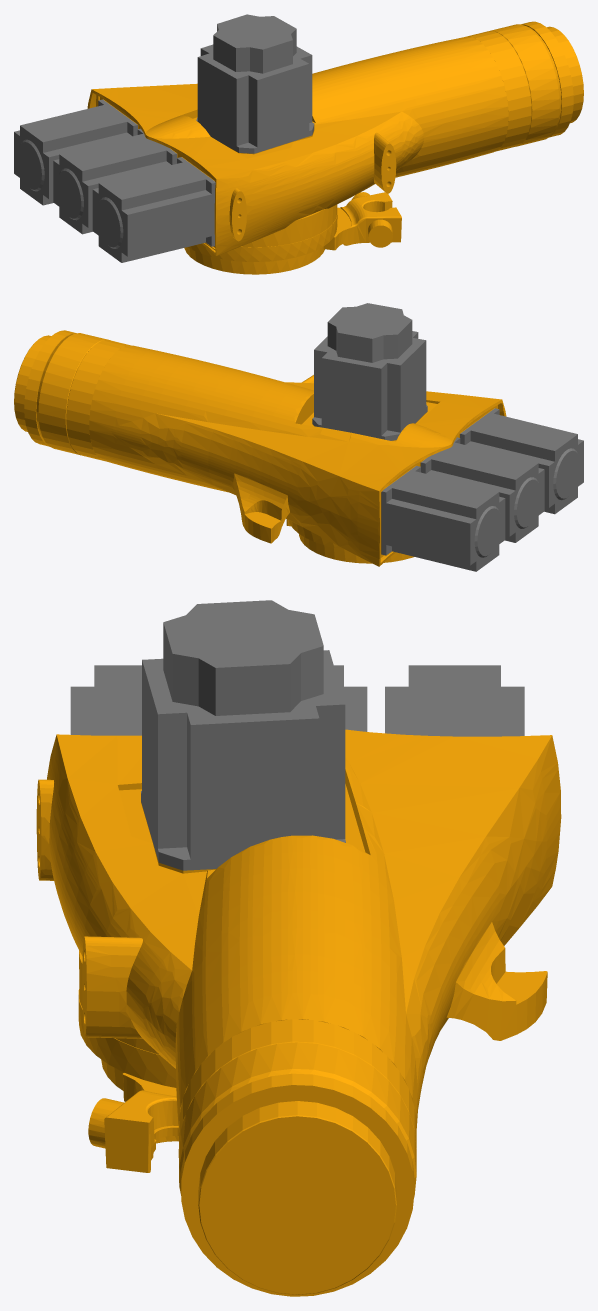
The picture shows the model from 3 angles, top to bottom: view 1: azimuth 30°, elevation 25°; view 2: azimuth 150°, elevation 25°; view 3: azimuth 270°, elevation 25°; orthographic projection. The views are drawn at different scales.
Parts seen in each view (by area): view 1: /node0/Mesh001-mesh/0, /node2/Mesh005-mesh/0, /node3/Mesh002-mesh/0, /node1/Mesh006-mesh/0, /node4/Mesh003-mesh/0, /node5/Mesh004-mesh/0; view 2: /node0/Mesh001-mesh/0, /node2/Mesh005-mesh/0, /node4/Mesh003-mesh/0, /node1/Mesh006-mesh/0, /node3/Mesh002-mesh/0, /node5/Mesh004-mesh/0; view 3: /node0/Mesh001-mesh/0, /node1/Mesh006-mesh/0, /node2/Mesh005-mesh/0, /node4/Mesh003-mesh/0, /node3/Mesh002-mesh/0, /node5/Mesh004-mesh/0.
Boxes of the visible parts, left/top/right/bottom form: /node0/Mesh001-mesh/0: left=87, top=36, right=508, bottom=274; /node2/Mesh005-mesh/0: left=196, top=14, right=314, bottom=153; /node3/Mesh002-mesh/0: left=92, top=157, right=215, bottom=262; /node1/Mesh006-mesh/0: left=467, top=21, right=583, bottom=151; /node4/Mesh003-mesh/0: left=14, top=99, right=137, bottom=205; /node5/Mesh004-mesh/0: left=53, top=128, right=177, bottom=234; /node0/Mesh001-mesh/0: left=89, top=345, right=506, bottom=566; /node2/Mesh005-mesh/0: left=312, top=303, right=427, bottom=440; /node4/Mesh003-mesh/0: left=381, top=466, right=505, bottom=571; /node1/Mesh006-mesh/0: left=14, top=330, right=129, bottom=460; /node3/Mesh002-mesh/0: left=460, top=408, right=583, bottom=514; /node5/Mesh004-mesh/0: left=420, top=437, right=544, bottom=542; /node0/Mesh001-mesh/0: left=36, top=729, right=561, bottom=1172; /node1/Mesh006-mesh/0: left=178, top=1019, right=416, bottom=1296; /node2/Mesh005-mesh/0: left=141, top=600, right=345, bottom=870; /node4/Mesh003-mesh/0: left=385, top=665, right=524, bottom=736; /node3/Mesh002-mesh/0: left=70, top=665, right=141, bottom=735; /node5/Mesh004-mesh/0: left=334, top=665, right=367, bottom=731.
Bounding box in the file's own units: 1.15 × 0.477 × 0.5335.
